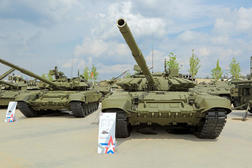t72: (102, 19, 232, 136)
